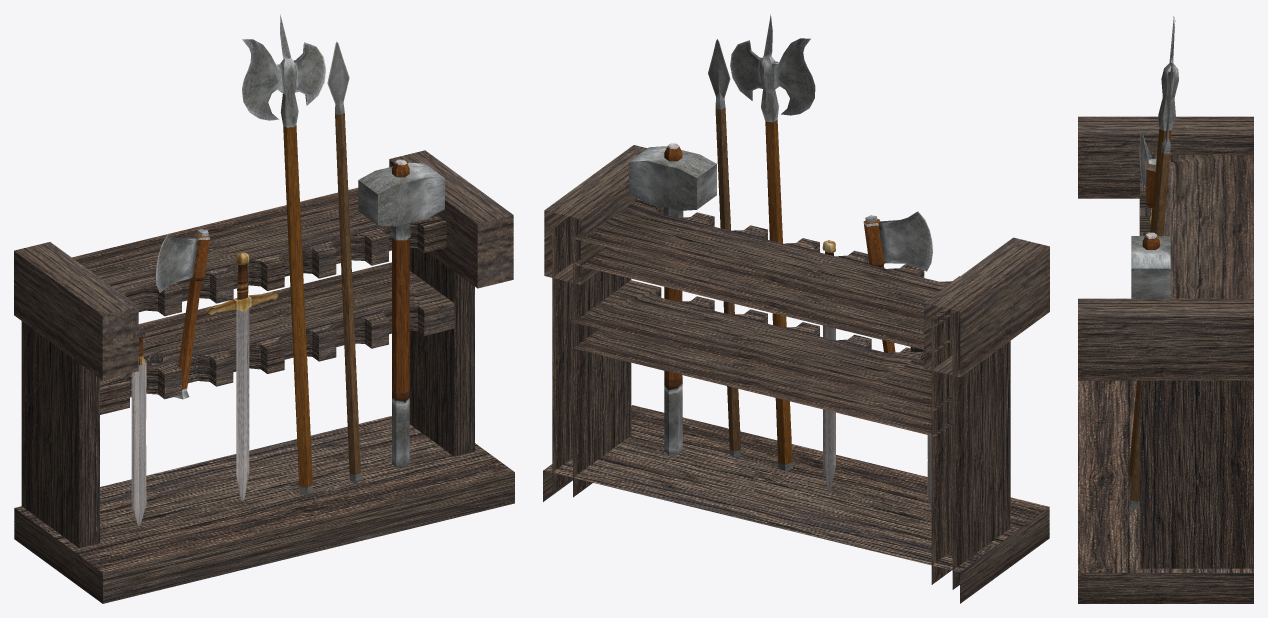
The model's file is mm9_deco_weaponrack_new.glb.
3 renders of one model, left to right at view 1: azimuth 30°, elevation 25°; view 2: azimuth 150°, elevation 25°; view 3: azimuth 270°, elevation 25°, orthographic.
Visible parts, largest first — view 1: Weaponrack_new; view 2: Weaponrack_new; view 3: Weaponrack_new.
Part boxes in pixels (<box>): Weaponrack_new: <box>14,14,514,603</box>; Weaponrack_new: <box>543,14,1049,603</box>; Weaponrack_new: <box>1078,16,1253,603</box>.
Bounding box in the file's own units: 1.95 × 2.26 × 0.7263.
Materials: 2 (2 with a texture image).
